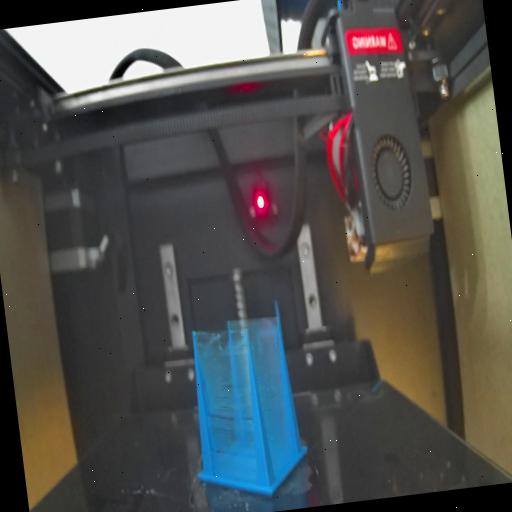stringing: (196, 328, 262, 498), (252, 315, 295, 482)
